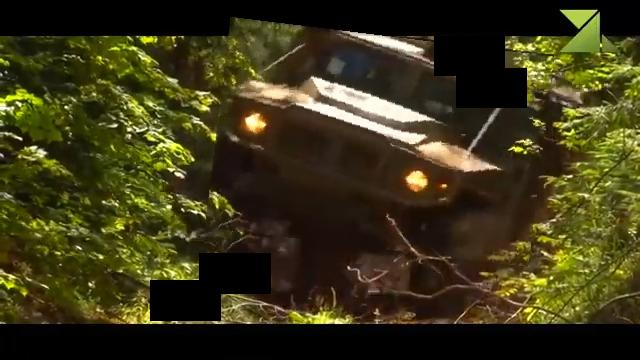MIL_HMMWV: (211, 25, 549, 258)
